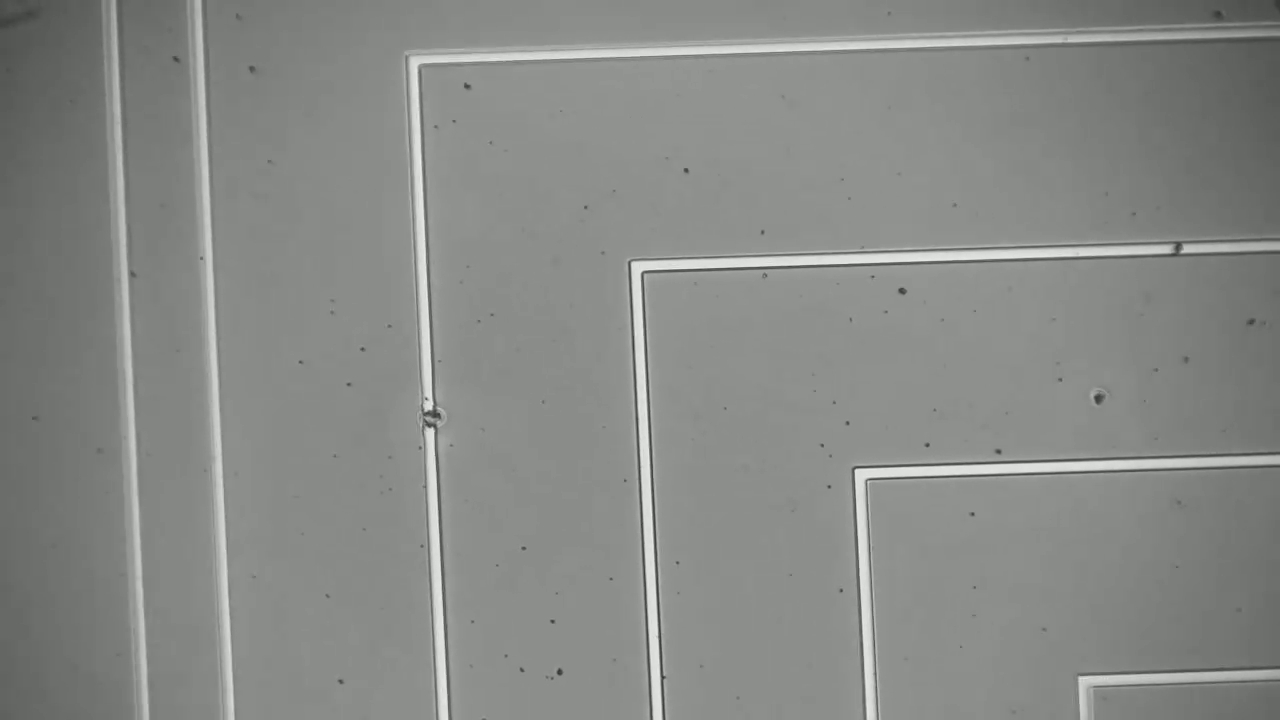stains_enbedded: (406, 396, 461, 445), (1167, 232, 1198, 266)
